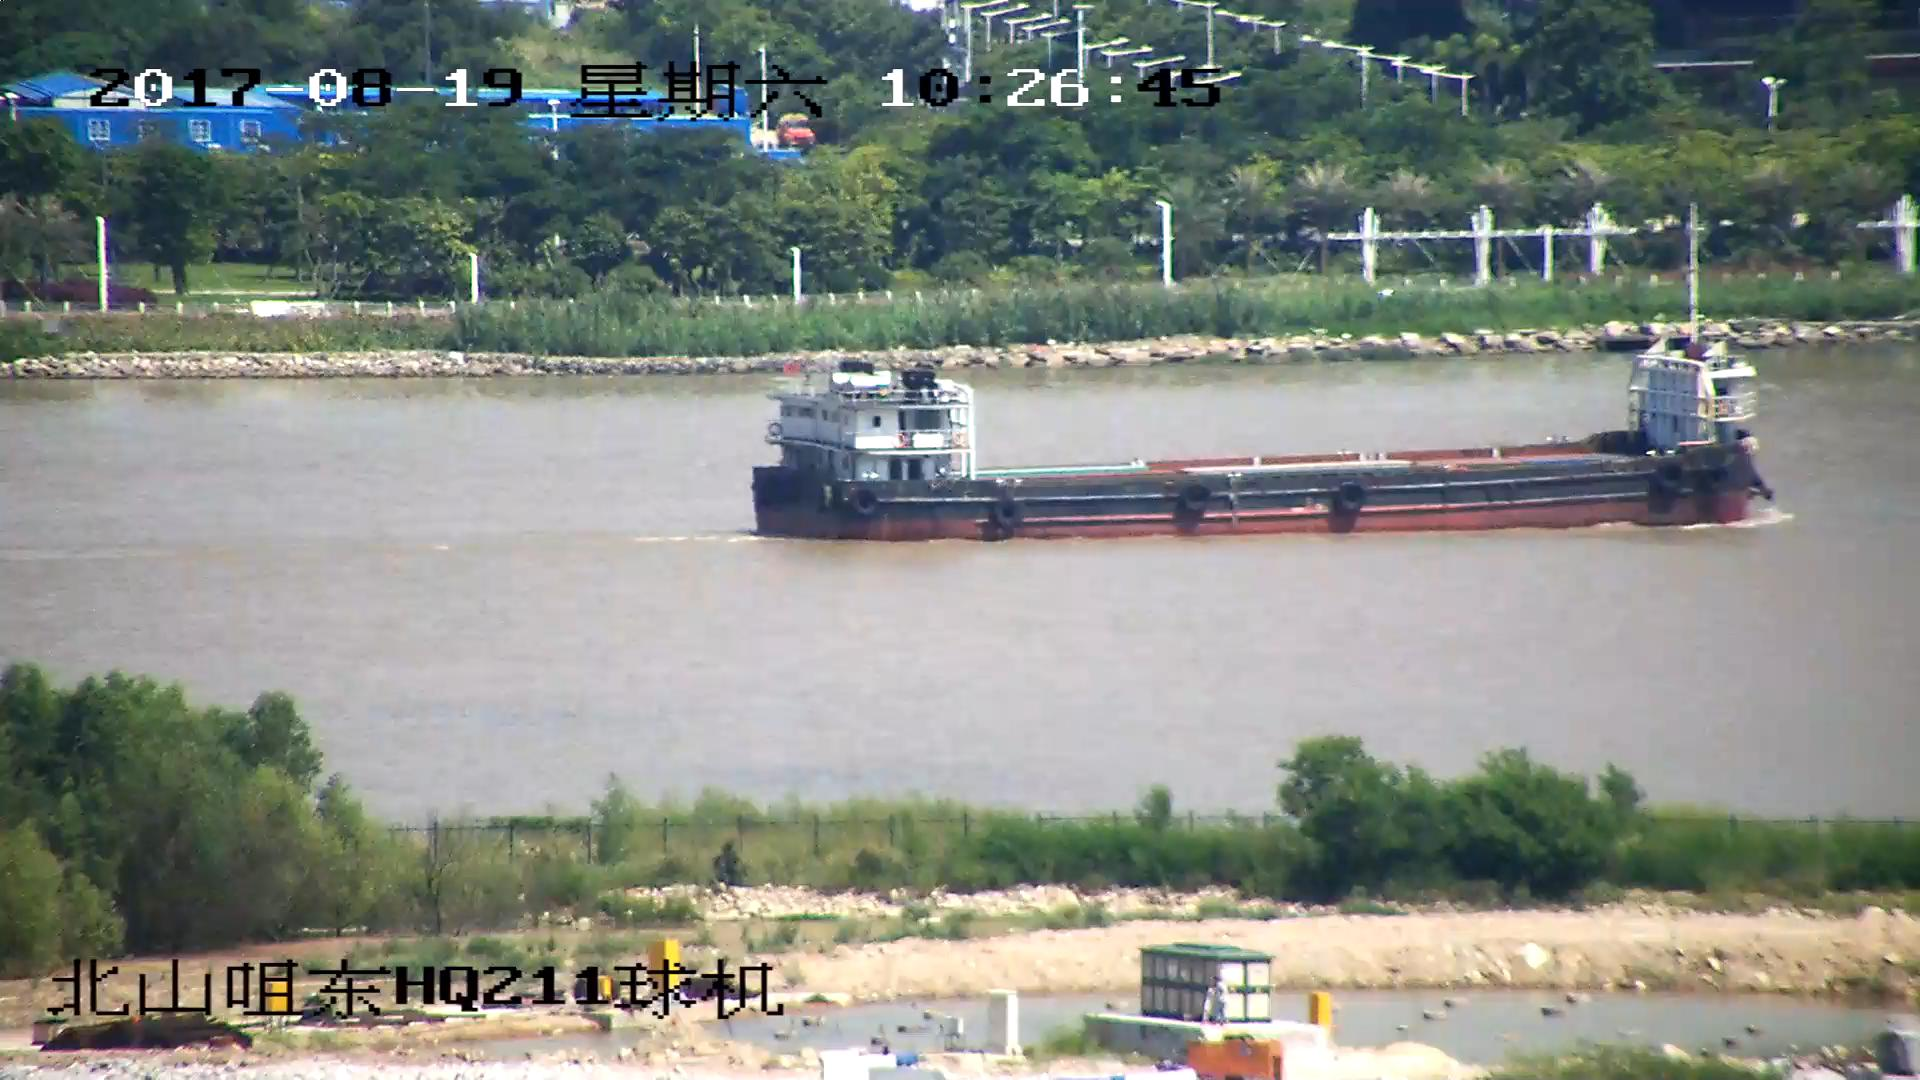general cargo ship: (747, 351, 1762, 535)
